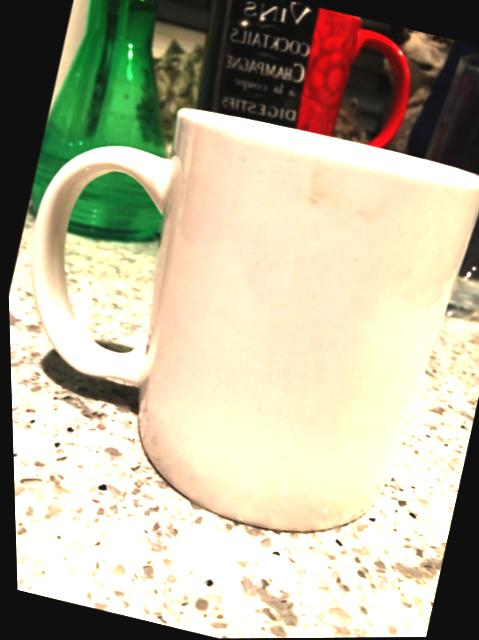Cup: (30, 110, 478, 531), (197, 0, 409, 146), (426, 55, 478, 173)
